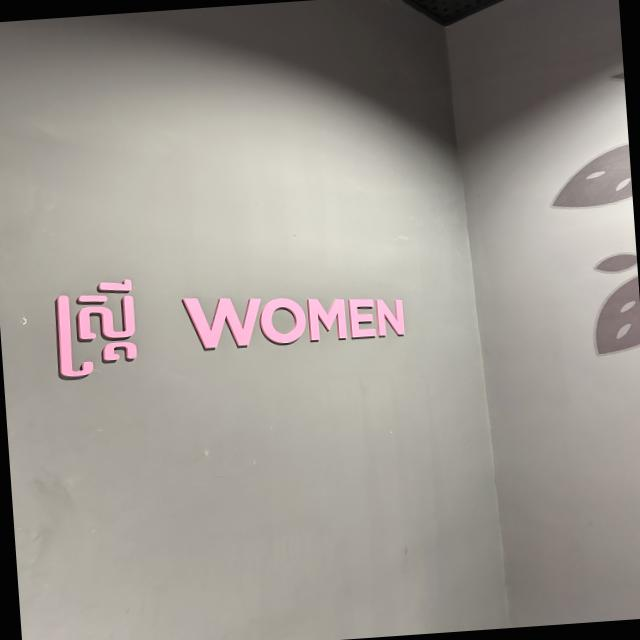Yolov11kh: (27, 273, 149, 384)
